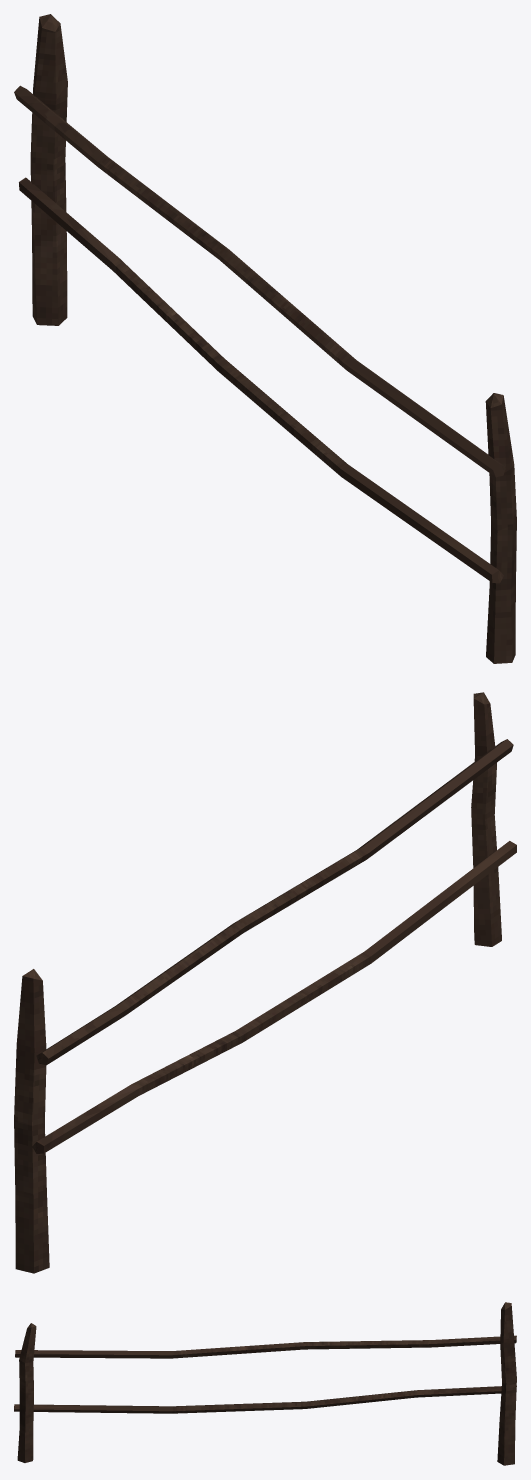
Rendered from fence3.fbx.
3 views of the same model, one above another, from view 1: azimuth 30°, elevation 25°; view 2: azimuth 150°, elevation 25°; view 3: azimuth 270°, elevation 25° (orthographic). The views are drawn at different scales.
Parts seen in each view (by area): view 1: fence_3; view 2: fence_3; view 3: fence_3.
Boxes of the visible parts, bbox=[...] form: fence_3: bbox=[14, 14, 516, 663]; fence_3: bbox=[14, 692, 516, 1273]; fence_3: bbox=[14, 1302, 516, 1465].
Size of the model in its own units: 13.25 by 249 by 87.25.
